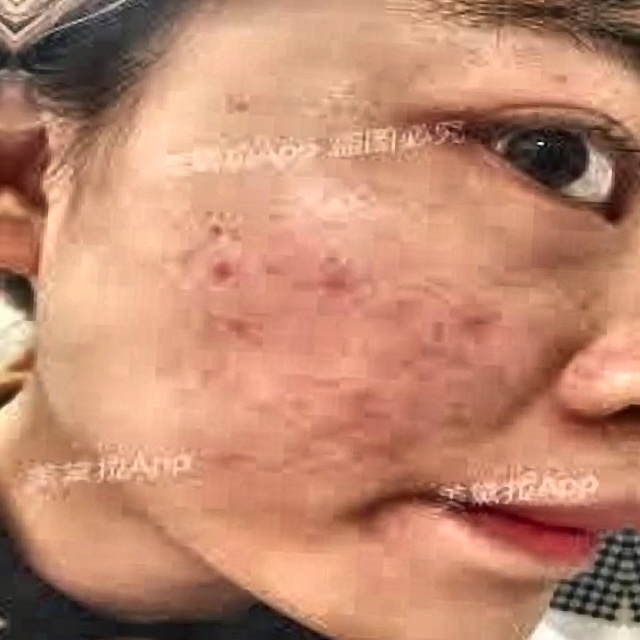comedone: (444, 298, 509, 343), (311, 256, 353, 308), (193, 263, 250, 290)
